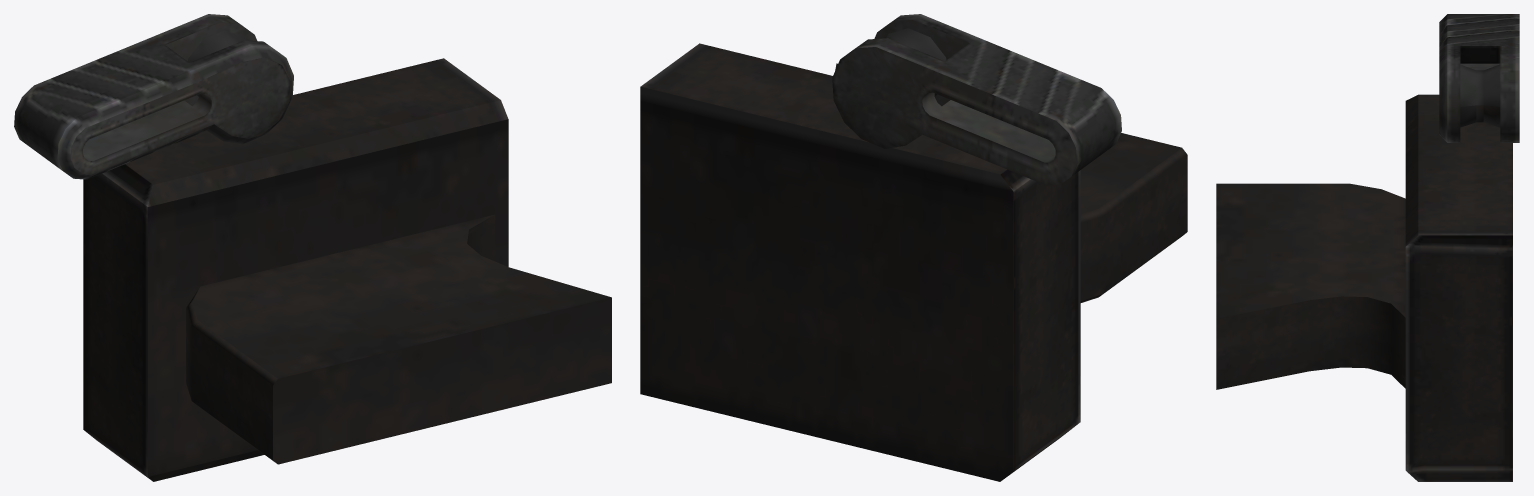
File: t6_attach_optic_dualband_mount_view_LOD0.obj
3 views of the same model, side by side, from view 1: azimuth 30°, elevation 25°; view 2: azimuth 150°, elevation 25°; view 3: azimuth 270°, elevation 25° (orthographic). The views are drawn at different scales.
Visible parts, largest first — view 1: mtl_t6_attach_optic_dualband, mtl_t6_attach_optic_dualband_camo2; view 2: mtl_t6_attach_optic_dualband, mtl_t6_attach_optic_dualband_camo2; view 3: mtl_t6_attach_optic_dualband, mtl_t6_attach_optic_dualband_camo2.
Boxes of the visible parts, x1,y1,x2,y2 form: mtl_t6_attach_optic_dualband: (57, 14, 611, 481); mtl_t6_attach_optic_dualband_camo2: (14, 36, 196, 170); mtl_t6_attach_optic_dualband: (640, 14, 1187, 481); mtl_t6_attach_optic_dualband_camo2: (933, 37, 1121, 176); mtl_t6_attach_optic_dualband: (1216, 14, 1519, 481); mtl_t6_attach_optic_dualband_camo2: (1447, 14, 1519, 45).
Size of the model in its own units: 4.42 by 3.92 by 3.28.
